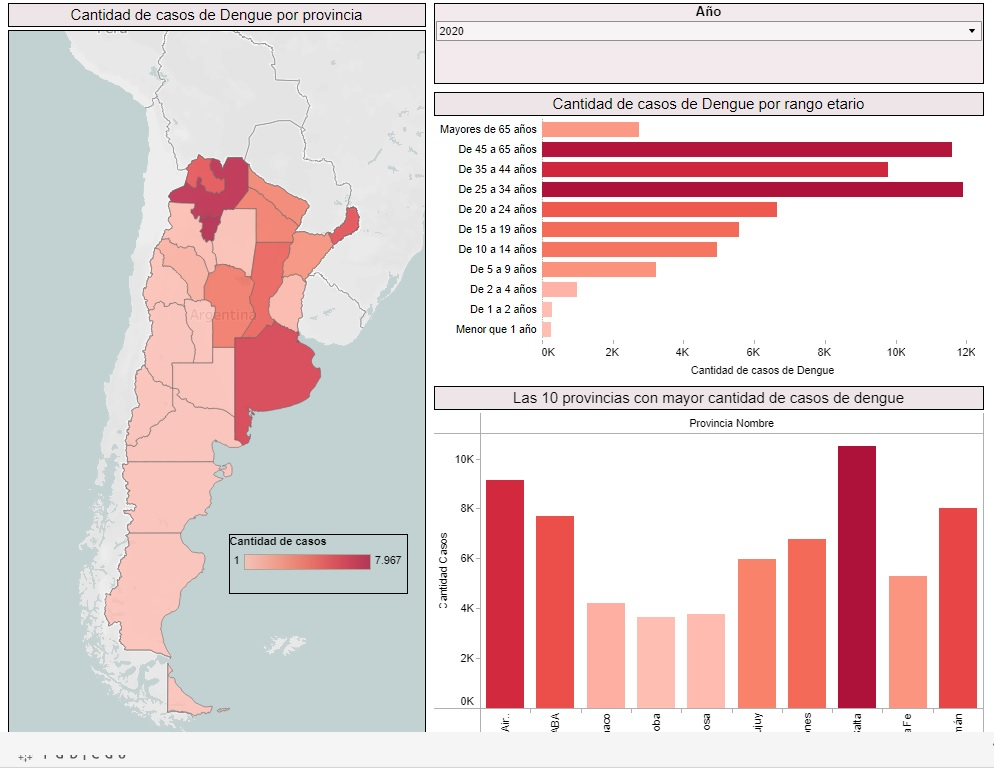

This screenshot's page, from the dashboard's own definition file:
{"tool":"tableau","page":{"name":"Dashboard 1","canvas":[1000,800],"ordinal":0},"visuals":[{"type":"worksheet","title":"Hoja 1","mark":"Multipolygon","box":[8,8,426,784]},{"type":"filter","title":"Hoja 1","param":"[federated.0nnemp70lzt9q11d12i4p06k1ptm].[none:año:ok]","box":[434,8,558,89]},{"type":"worksheet","title":"Hoja 2","mark":"Automatic","cols":["cantidad_casos"],"box":[434,97,558,293]},{"type":"worksheet","title":"Hoja 3","mark":"Automatic","rows":["cantidad_casos"],"cols":["provincia_nombre"],"box":[434,390,558,402]},{"type":"legend","title":"Hoja 1","param":"[federated.0nnemp70lzt9q11d12i4p06k1ptm].[sum:cantidad_casos:qk]","box":[233,543,179,60]}]}

Visuals, with their boxes in screenshot pixels (x1, y1, x2, y2):
"Hoja 1" worksheet (Multipolygon marks): [left=5, top=3, right=424, bottom=767]
"Hoja 1" filter: [left=424, top=3, right=972, bottom=90]
"Hoja 2" worksheet: [left=424, top=90, right=972, bottom=378]
"Hoja 3" worksheet: [left=424, top=378, right=972, bottom=767]
"Hoja 1" legend: [left=226, top=528, right=402, bottom=587]
